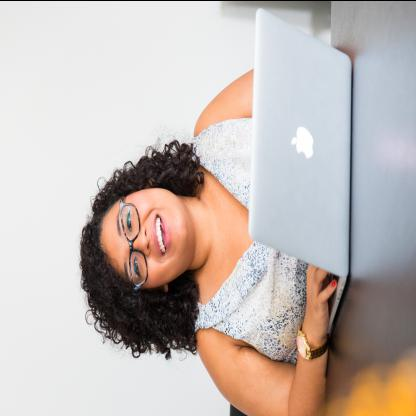Eye: (132, 256, 142, 278), (126, 208, 132, 232)
Mouth: (152, 212, 170, 257)
Nose: (133, 226, 151, 256)
